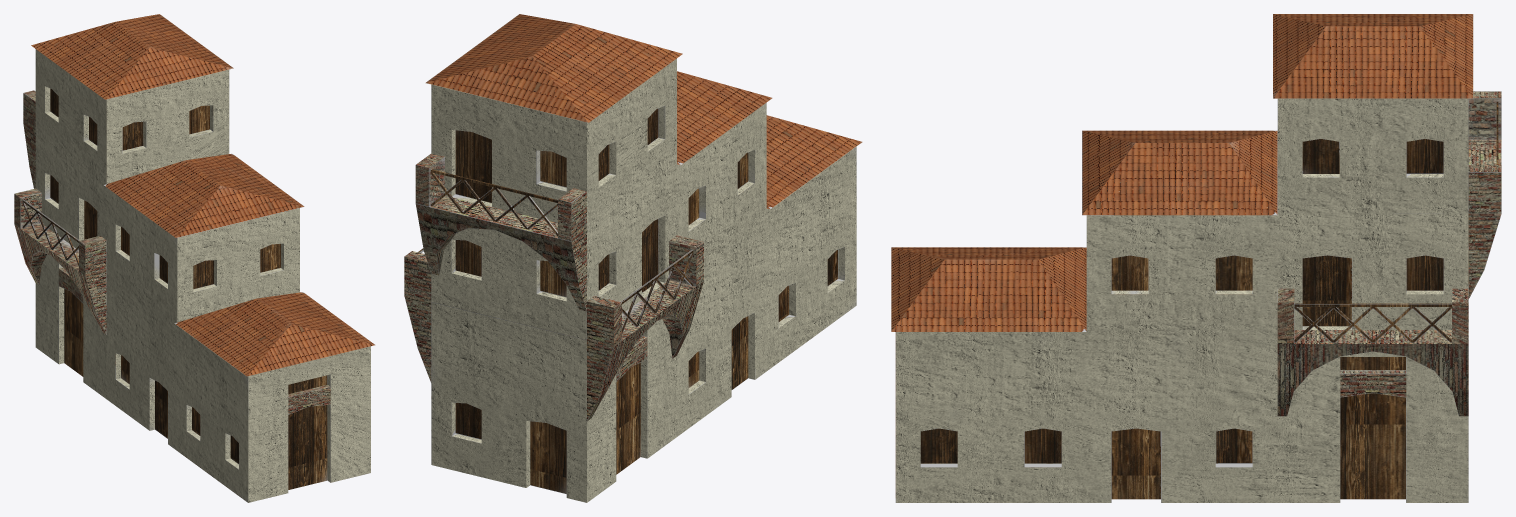
The model's file is insula3.fbx.
The picture shows the model from 3 angles, left to right: view 1: azimuth 30°, elevation 25°; view 2: azimuth 150°, elevation 25°; view 3: azimuth 270°, elevation 25°; orthographic projection. The views are drawn at different scales.
Parts seen in each view (by area): view 1: insula3; view 2: insula3; view 3: insula3.
Part boxes in pixels (<box>): insula3: <box>14,14,375,502</box>; insula3: <box>404,14,862,502</box>; insula3: <box>891,14,1501,502</box>.
Bounding box in the file's own units: 91.94 × 38.75 × 72.5.
